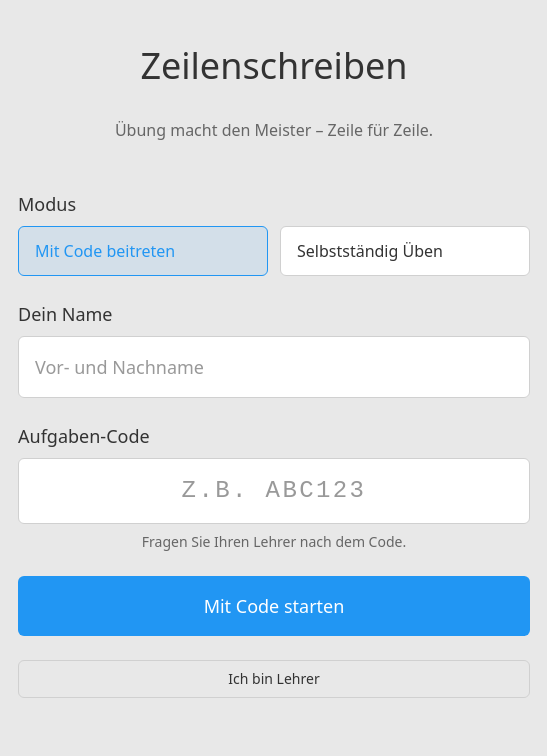
Test: StudentForm › Validation — self practice mode › shows error when practice text is empty
Step 1. Click the button "Selbstständig Üben" → (405, 251), box [280,226,530,276]
(page scrolled)
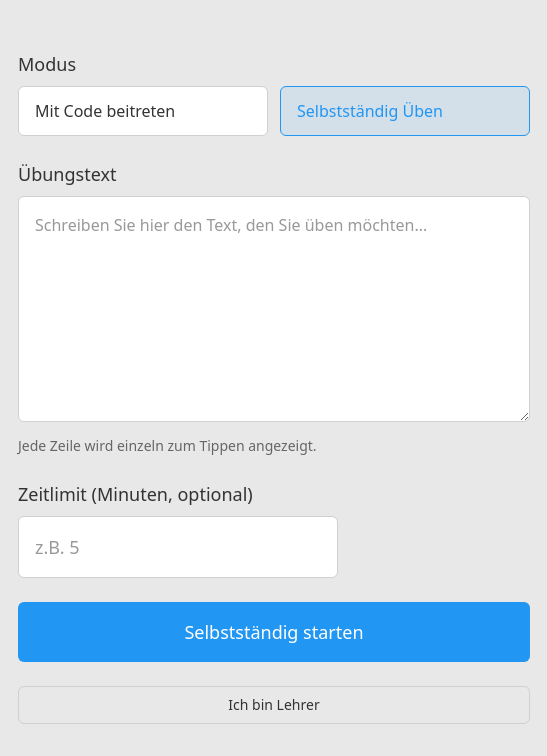
Step 2. Click the button "Selbstständig starten" → (274, 632), box [18,602,530,662]
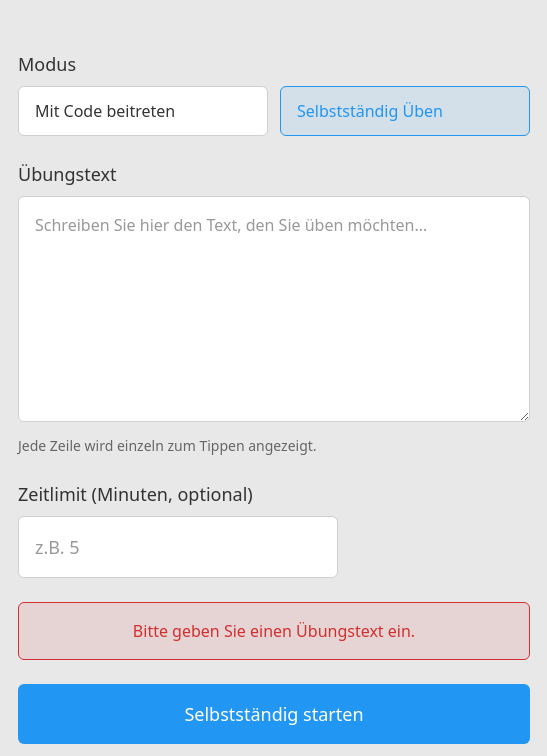
Check: the text "Bitte geben Sie einen Übungstext ein." is shown, box [18,602,530,660]
